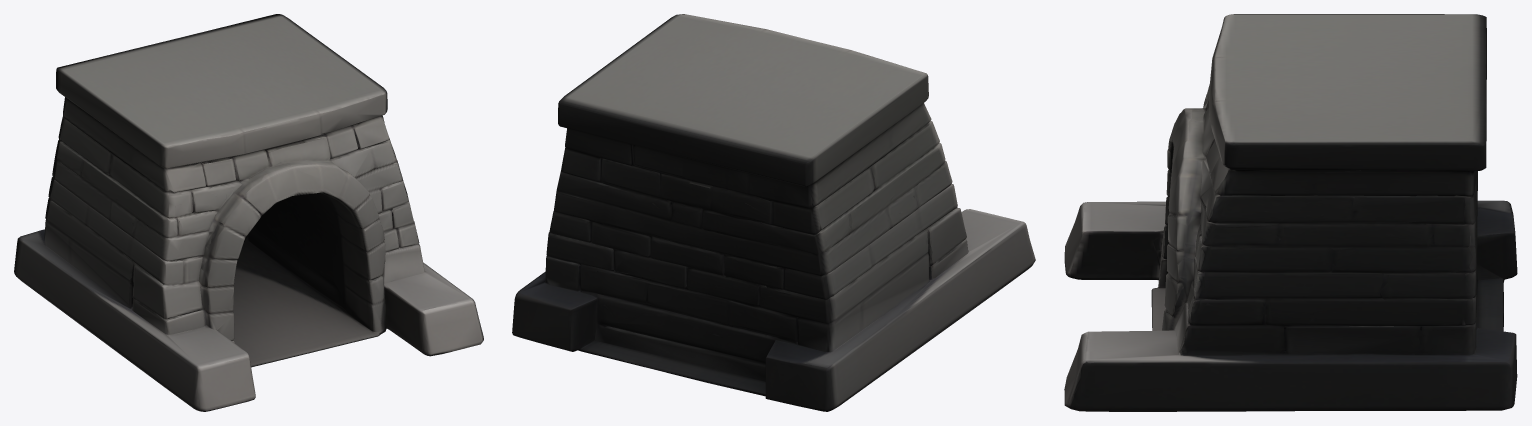
File: tunnel.glb
3 renders of one model, left to right at view 1: azimuth 30°, elevation 25°; view 2: azimuth 150°, elevation 25°; view 3: azimuth 270°, elevation 25°, orthographic. The views are drawn at different scales.
Visible parts, largest first — view 1: geometry_0; view 2: geometry_0; view 3: geometry_0.
Boxes of the visible parts, left/top/right/bottom form: geometry_0: left=14, top=14, right=483, bottom=411; geometry_0: left=512, top=14, right=1035, bottom=411; geometry_0: left=1064, top=14, right=1517, bottom=411.
Size of the model in its own units: 0.9994 by 0.7048 by 1.14.
1 material, 1 textured.
